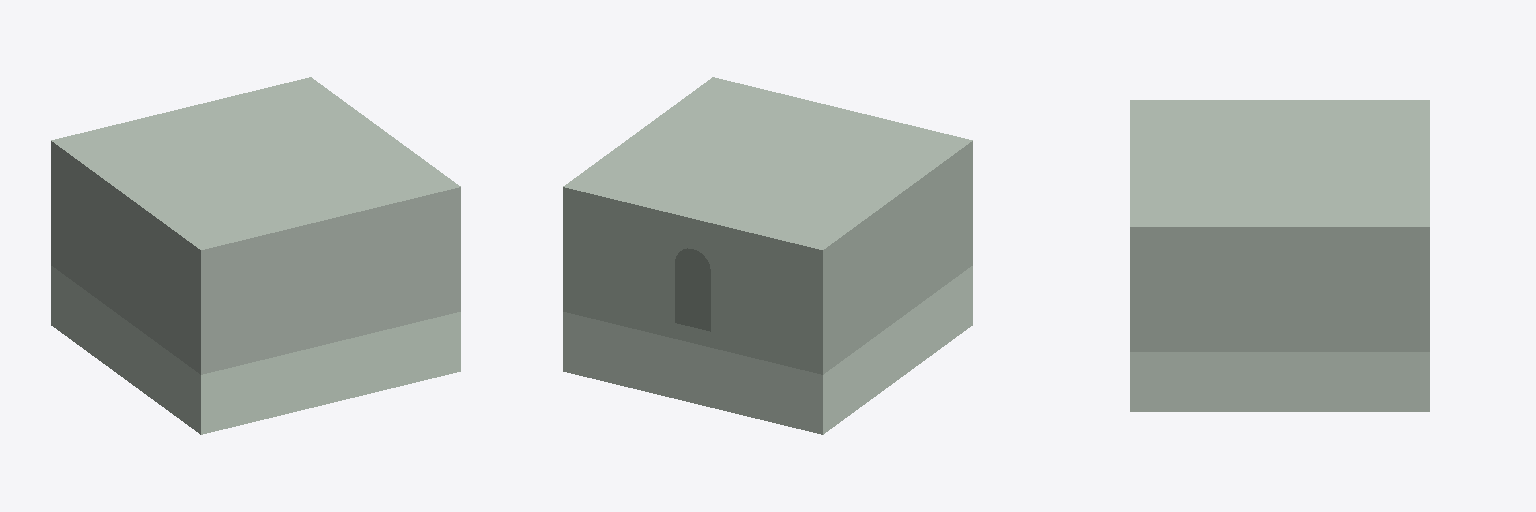
File: towerDefense_031.obj
The picture shows the model from 3 angles: view 1: azimuth 30°, elevation 25°; view 2: azimuth 150°, elevation 25°; view 3: azimuth 270°, elevation 25°; orthographic projection.
Visible parts, largest first — view 1: Mesh1 Group1 Model; view 2: Mesh1 Group1 Model; view 3: Mesh1 Group1 Model.
Boxes of the visible parts, x1,y1,x2,y2 form: Mesh1 Group1 Model: [51, 77, 460, 434]; Mesh1 Group1 Model: [563, 77, 972, 434]; Mesh1 Group1 Model: [1130, 100, 1429, 411].
Size of the model in its own units: 0.5901 by 0.4 by 0.5901.